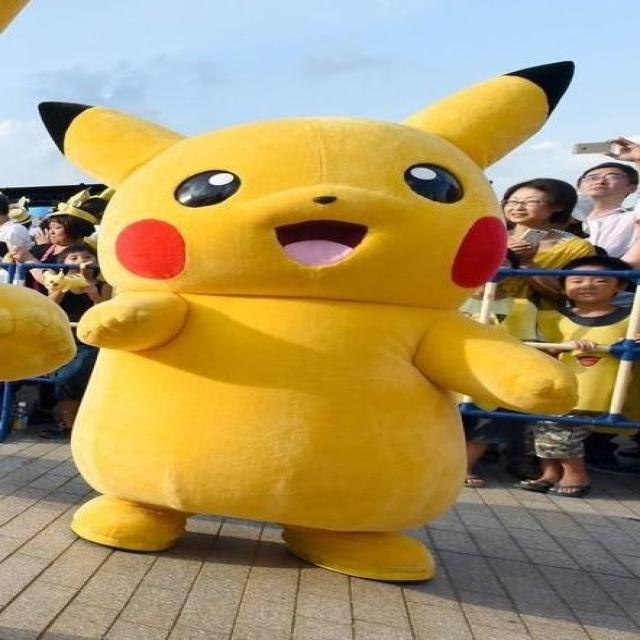pikachu: (39, 61, 578, 584)
